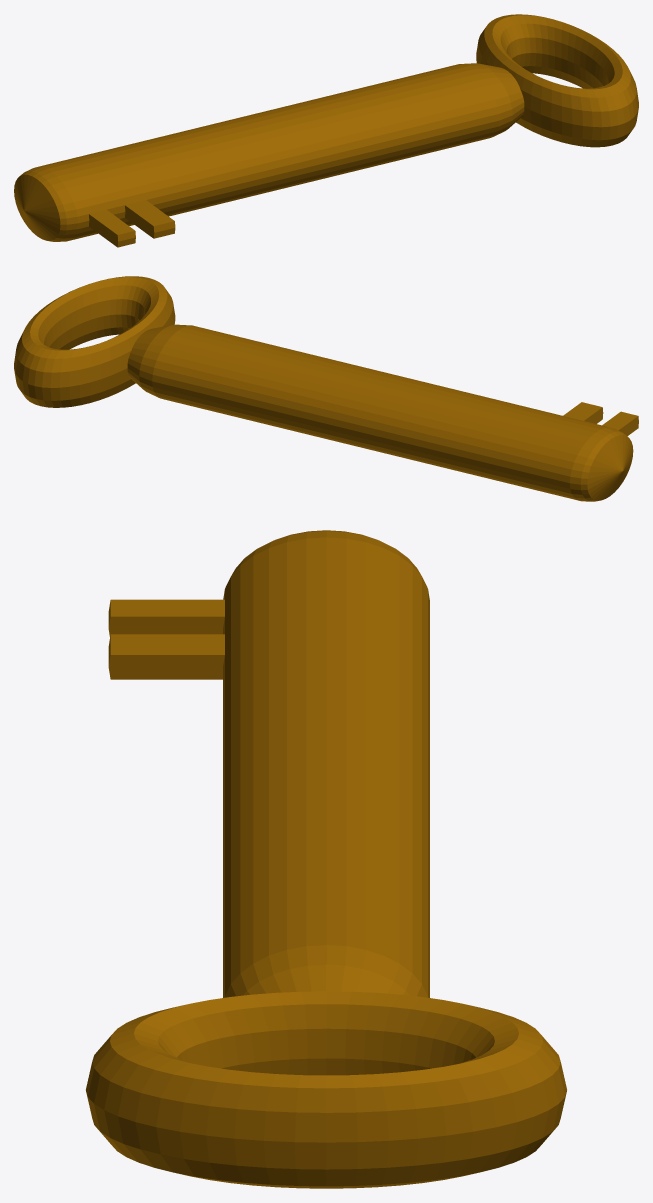
The model's file is KeyGold.fbx.
3 renders of one model, top to bottom at view 1: azimuth 30°, elevation 25°; view 2: azimuth 150°, elevation 25°; view 3: azimuth 270°, elevation 25°, orthographic. The views are drawn at different scales.
Parts seen in each view (by area): view 1: KeyGold; view 2: KeyGold; view 3: KeyGold.
Boxes of the visible parts, box(x1,y1,x2,y2) form: KeyGold: box(14, 14, 638, 247); KeyGold: box(14, 276, 638, 501); KeyGold: box(86, 530, 566, 1188).
Size of the model in its own units: 5.33 by 0.5566 by 1.91.
